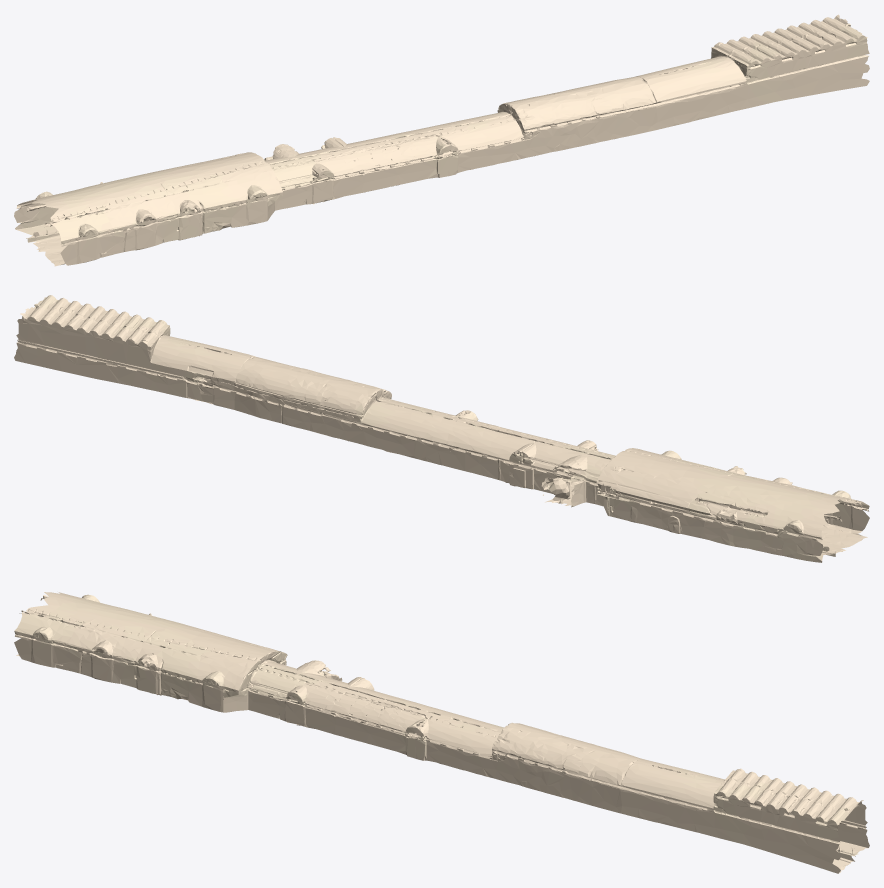
File: street.gltf
The picture shows the model from 3 angles, top to bottom: view 1: azimuth 30°, elevation 25°; view 2: azimuth 150°, elevation 25°; view 3: azimuth 330°, elevation 25°; orthographic projection. The views are drawn at different scales.
Parts seen in each view (by area): view 1: LeakeStreetTunnel03.001; view 2: LeakeStreetTunnel03.001; view 3: LeakeStreetTunnel03.001.
Part boxes in pixels (box(x1,y1,x2,y2)): LeakeStreetTunnel03.001: box(14, 14, 869, 266); LeakeStreetTunnel03.001: box(14, 295, 869, 562); LeakeStreetTunnel03.001: box(14, 592, 869, 873).
Bounding box in the file's own units: 152 × 10.57 × 16.68.
Materials: 1 (1 with a texture image).
